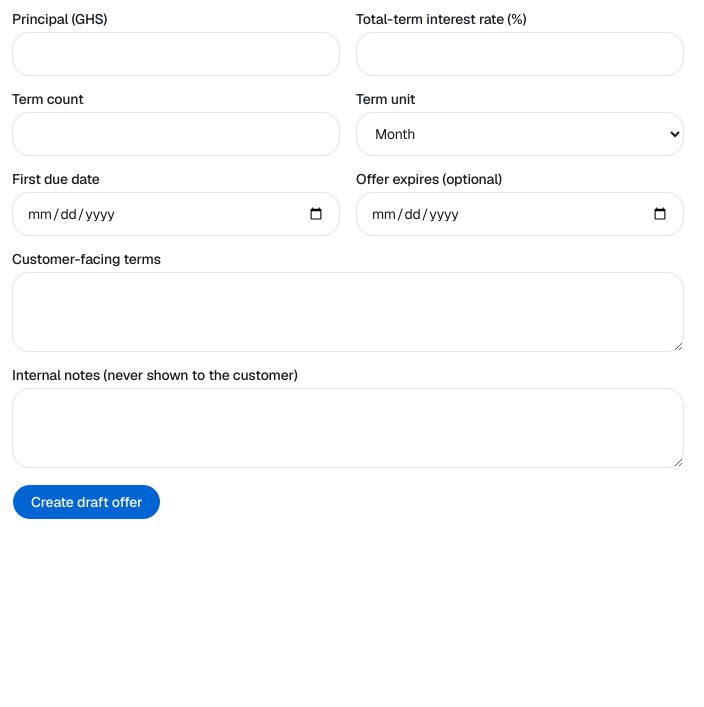
Test case: OfferForm › creates a draft offer and shows a Send action
Step 1. Type "10000" into the field labelled "Principal (GHS)" → (176, 54), box [12,32,340,76]
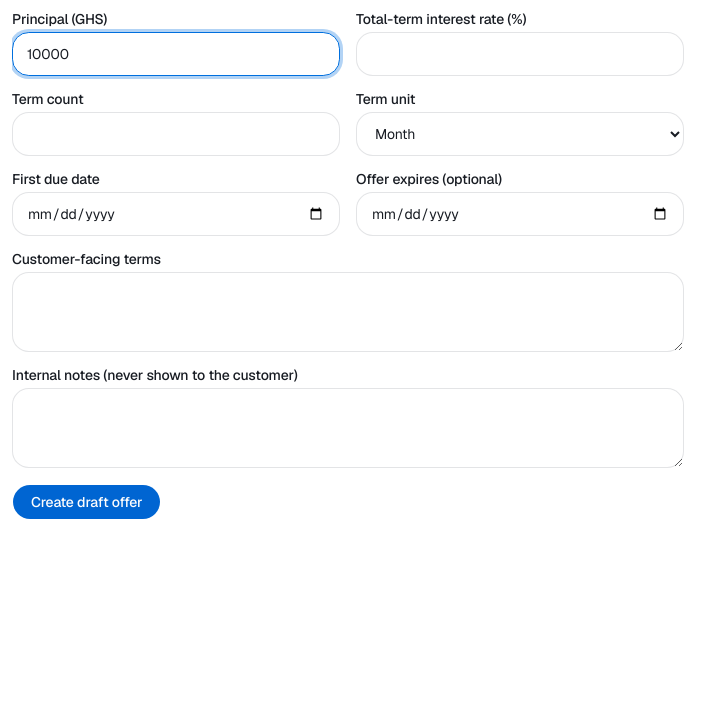
Step 2. Type "12" into the field labelled "Total-term interest rate (%)" → (520, 54), box [356,32,684,76]
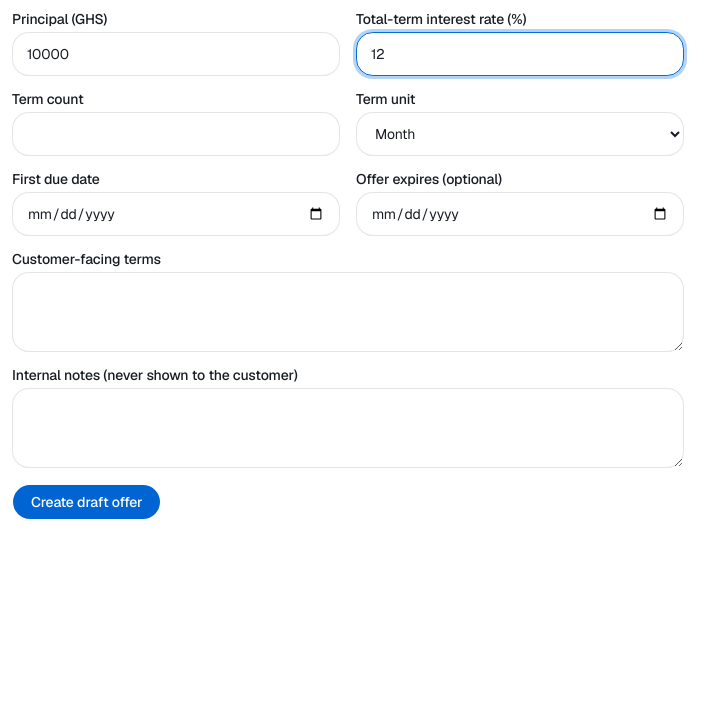
Step 3. Type "6" into the number field labelled "Term count" → (176, 134), box [12,112,340,156]
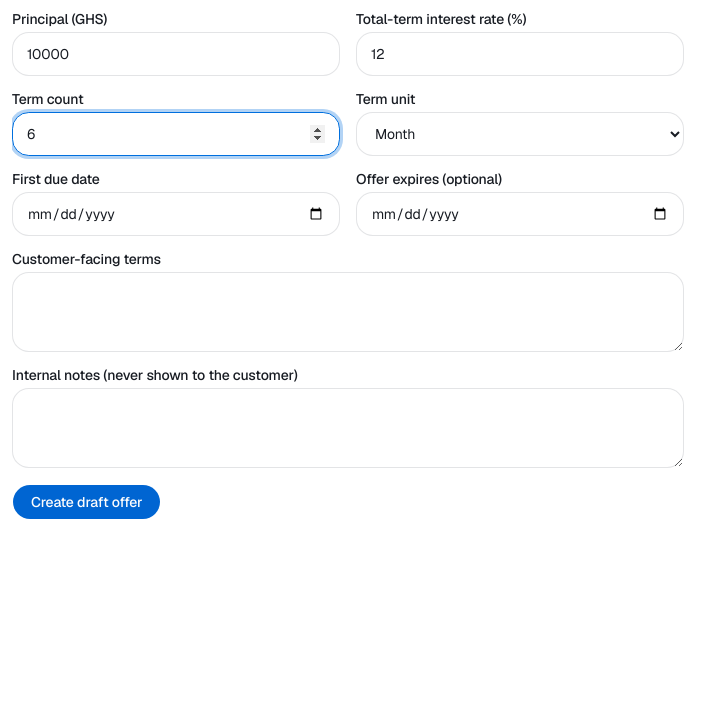
Step 4. Type "2026-09-01" into the date field labelled "First due date" → (176, 214), box [12,192,340,236]
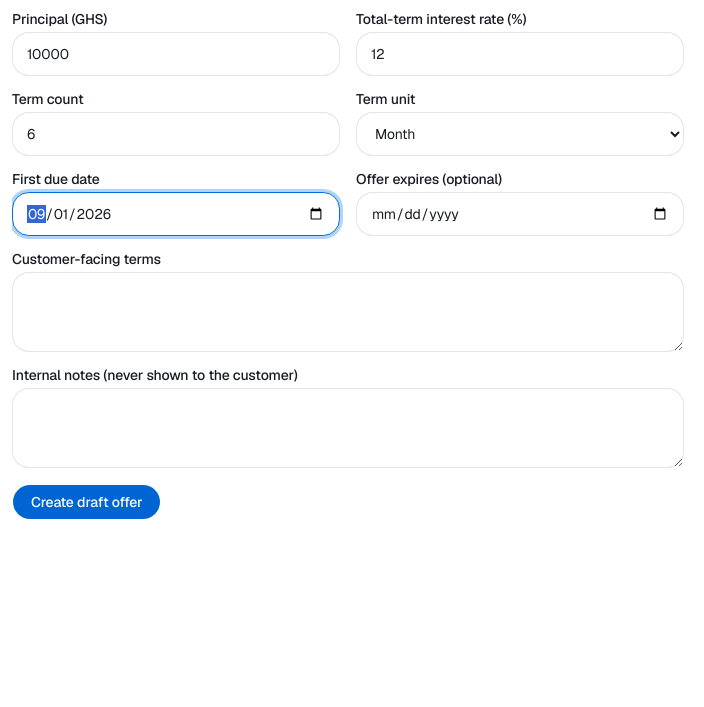
Step 5. Click the button "Create draft offer" → (87, 502), box [12,484,162,520]
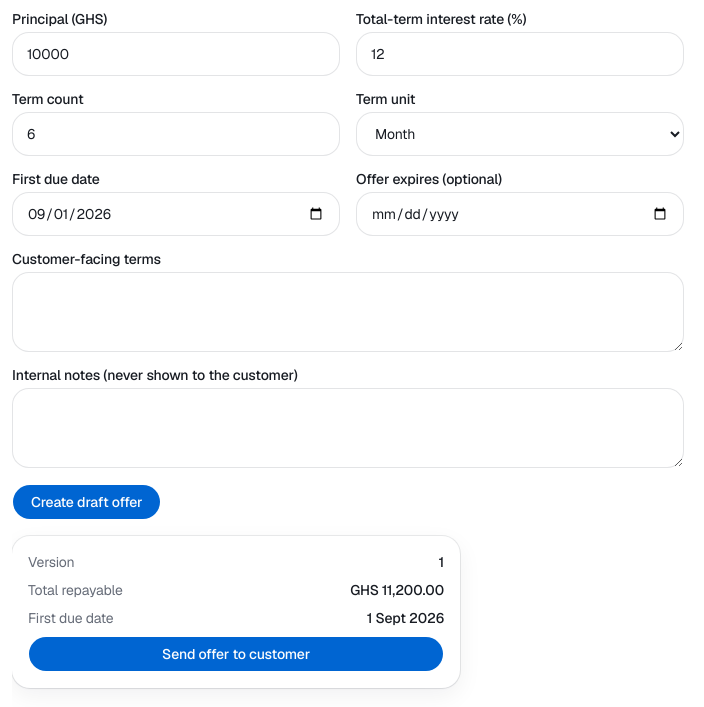
Expected: the button "Send offer to customer" is shown, [28,636,444,672]
